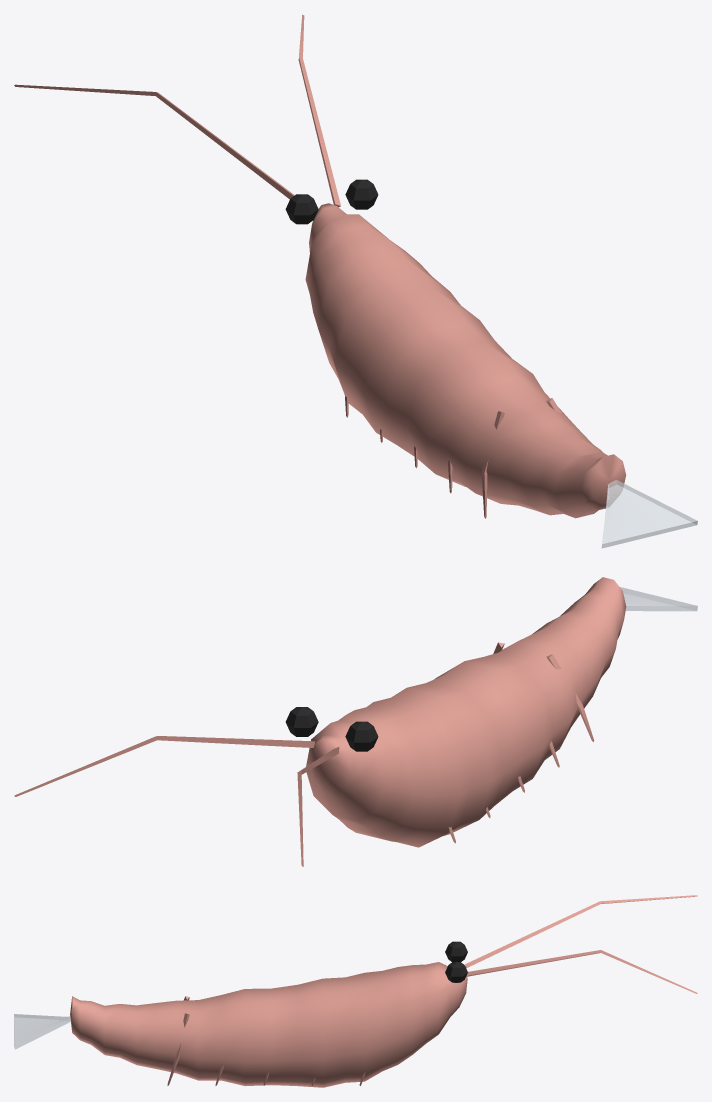
Rendered from fauna_prey_shrimp.glb.
3 views of the same model, one above another, from view 1: azimuth 30°, elevation 25°; view 2: azimuth 150°, elevation 25°; view 3: azimuth 270°, elevation 25° (orthographic). The views are drawn at different scales.
Visible parts, largest first — view 1: shrimp; view 2: shrimp; view 3: shrimp.
Part boxes in pixels (box(x1,y1,x2,y2)): shrimp: box(14, 14, 697, 548); shrimp: box(14, 577, 697, 866); shrimp: box(14, 895, 697, 1087).
Bounding box in the file's own units: 0.0242 × 0.0178 × 0.0712.
